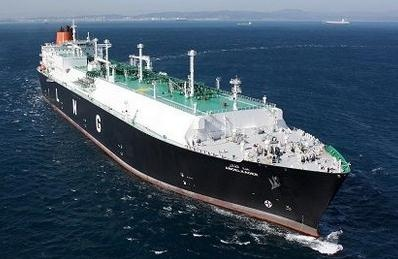Cargoship: (34, 17, 356, 229)
